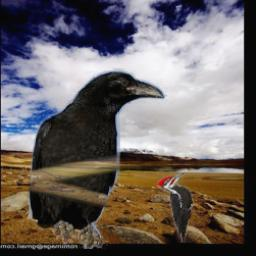Crow: (29, 69, 167, 250)
Woodpecker: (157, 171, 194, 243)
